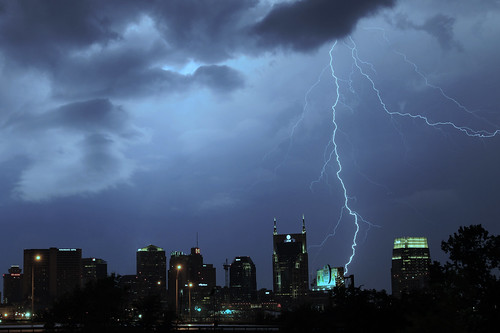building: (18, 245, 77, 305), (270, 222, 315, 299), (387, 225, 432, 302), (165, 245, 217, 294), (225, 254, 261, 295), (134, 243, 161, 289), (76, 259, 110, 278)
sky: (6, 1, 500, 242)
tree: (434, 230, 500, 333)
